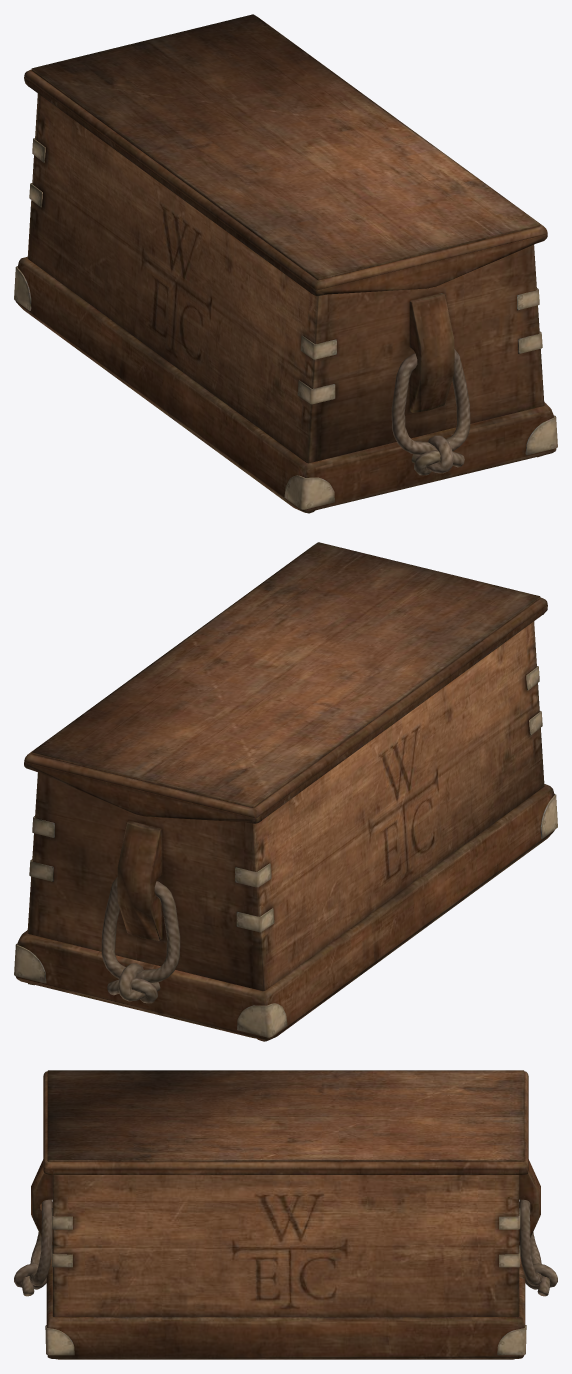
The model's file is wooden_crate_02.glb.
The picture shows the model from 3 angles, top to bottom: view 1: azimuth 30°, elevation 25°; view 2: azimuth 150°, elevation 25°; view 3: azimuth 270°, elevation 25°; orthographic projection. The views are drawn at different scales.
Parts seen in each view (by area): view 1: wooden_crate_02_crate, wooden_crate_02_lid; view 2: wooden_crate_02_crate, wooden_crate_02_lid; view 3: wooden_crate_02_crate, wooden_crate_02_lid.
Boxes of the visible parts, <box> form: wooden_crate_02_crate: <box>14,93,557,513</box>; wooden_crate_02_lid: <box>24,14,547,296</box>; wooden_crate_02_crate: <box>14,621,557,1041</box>; wooden_crate_02_lid: <box>24,542,547,823</box>; wooden_crate_02_crate: <box>14,1159,557,1359</box>; wooden_crate_02_lid: <box>43,1070,528,1174</box>.
Bounding box in the file's own units: 0.5291 × 0.464 × 1.17.
Materials: 1 (1 with a texture image).
